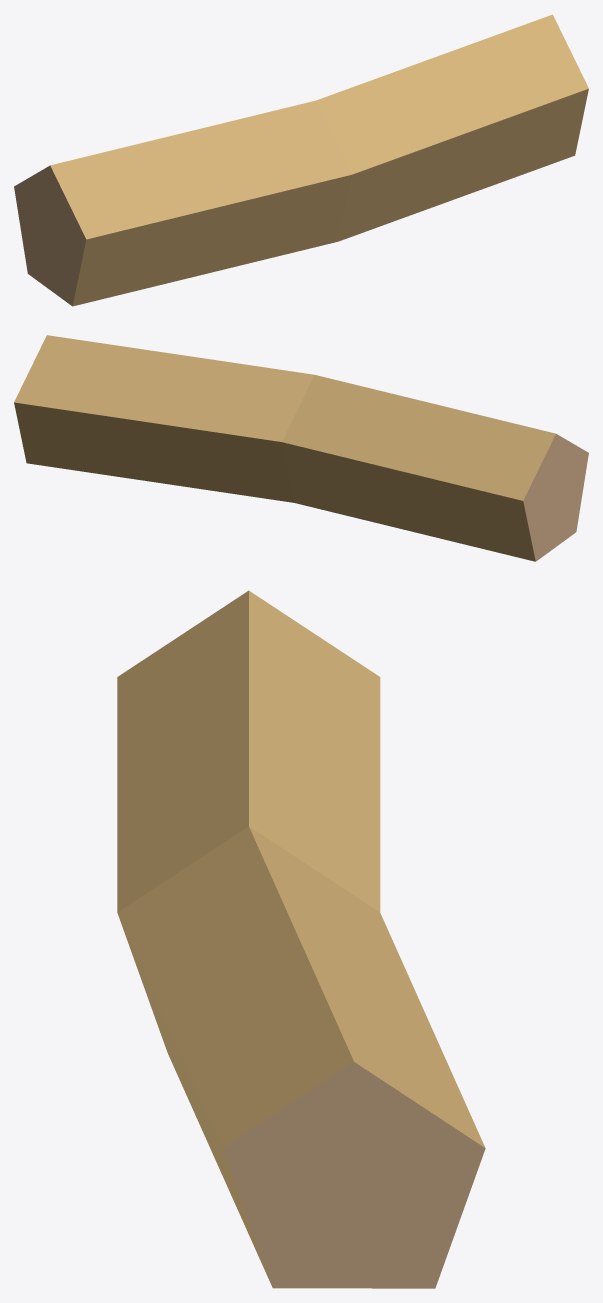
File: Simple_Firewood_01_LOD.fbx
3 renders of one model, top to bottom at view 1: azimuth 30°, elevation 25°; view 2: azimuth 150°, elevation 25°; view 3: azimuth 270°, elevation 25°, orthographic. The views are drawn at different scales.
Parts seen in each view (by area): view 1: Simple_Firewood_01_LOD0; view 2: Simple_Firewood_01_LOD0; view 3: Simple_Firewood_01_LOD0.
Boxes of the visible parts, left/top/right/bottom form: Simple_Firewood_01_LOD0: left=14, top=14, right=588, bottom=306; Simple_Firewood_01_LOD0: left=14, top=335, right=588, bottom=561; Simple_Firewood_01_LOD0: left=117, top=590, right=485, bottom=1288.
Size of what is drawn, in the model's own units: 56 by 12.56 by 18.49.
